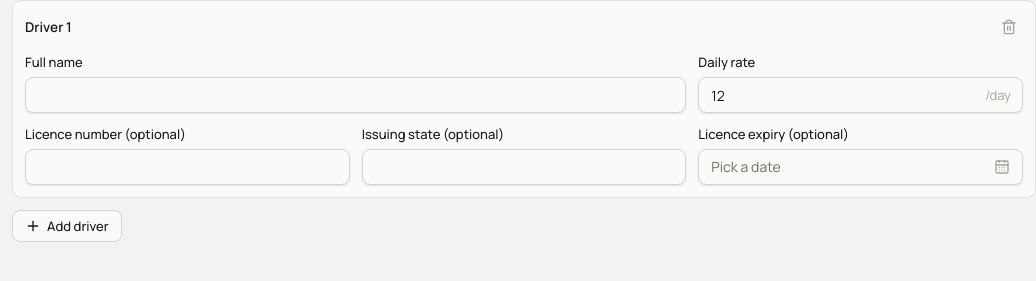
AdditionalDriversEditor › shows a field its error once that field is blurred, and only that one
Click the field named "Driver 1 full name".
click(356, 95)  # box [25, 77, 686, 113]
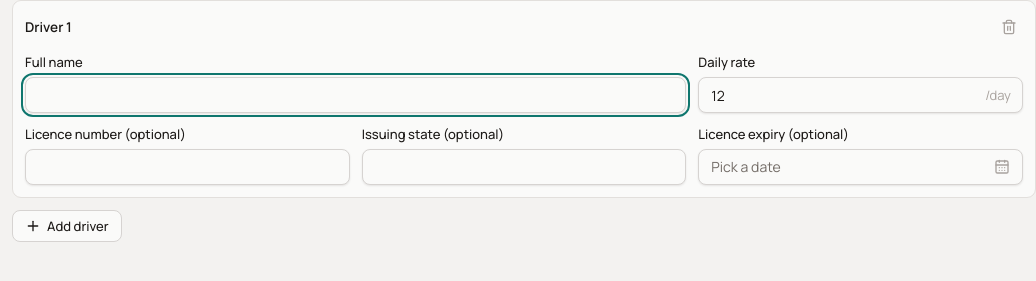
Press Tab
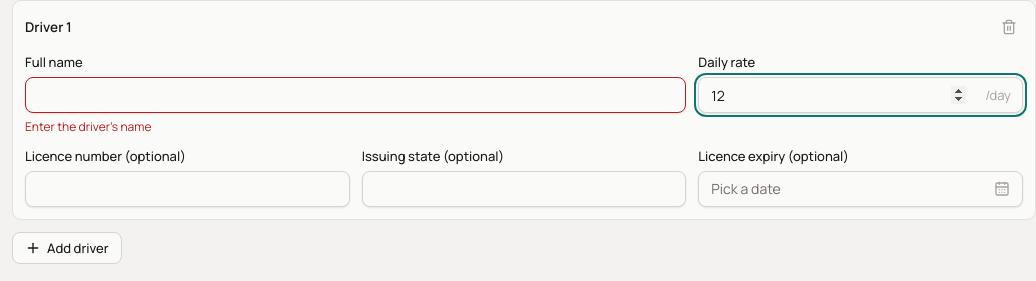
Now the message reads "Enter the driver's name", box [25, 118, 151, 135]
